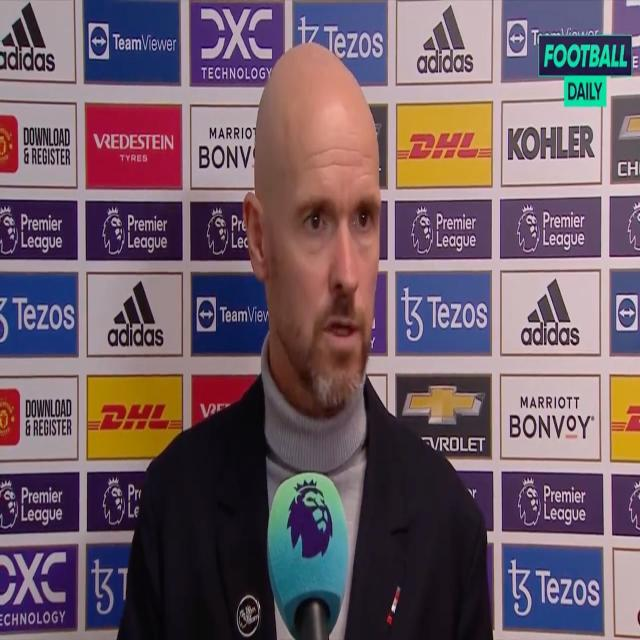Adidas: (417, 0, 473, 75), (521, 277, 580, 348), (0, 3, 56, 74), (107, 280, 164, 349)
Chevrolet: (404, 380, 486, 454)
Kohler: (507, 122, 594, 164)
TeamViewer: (507, 18, 600, 56), (89, 23, 178, 58)
